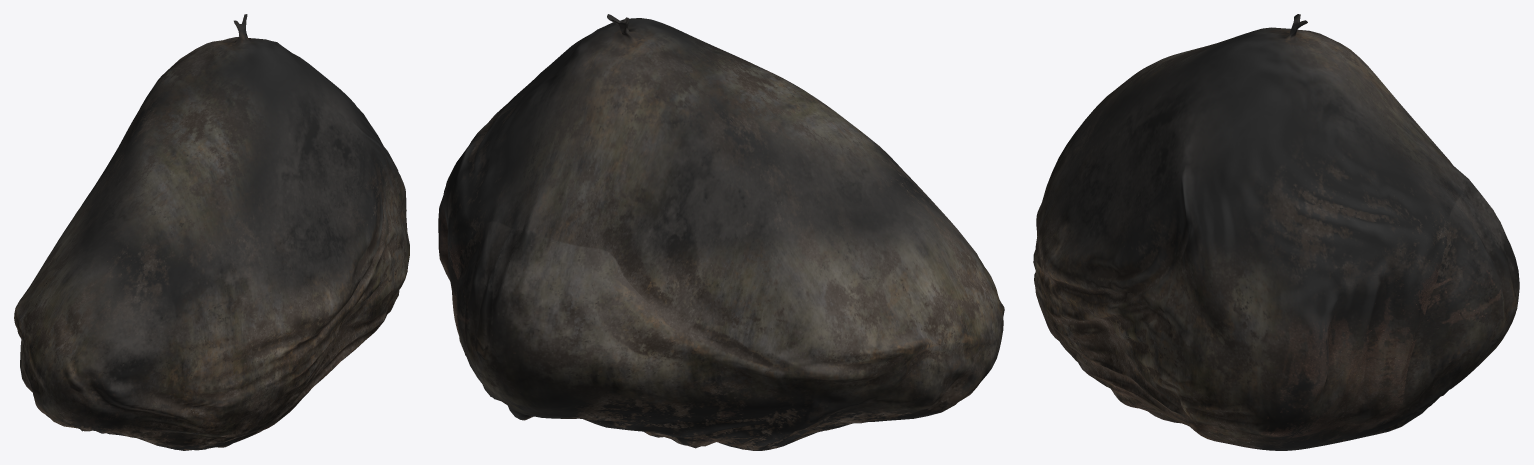
File: Trash_Interactable.fbx
The picture shows the model from 3 angles, left to right: view 1: azimuth 30°, elevation 25°; view 2: azimuth 150°, elevation 25°; view 3: azimuth 270°, elevation 25°; orthographic projection. The views are drawn at different scales.
Parts seen in each view (by area): view 1: Trash_lo; view 2: Trash_lo; view 3: Trash_lo.
Part boxes in pixels (x1=…): Trash_lo: x1=14, y1=14, x2=409, y2=450; Trash_lo: x1=438, y1=14, x2=1004, y2=450; Trash_lo: x1=1033, y1=14, x2=1519, y2=450.
Size of the model in its own units: 2.65 by 2.3 by 2.3.
Materials: 1 (1 with a texture image).
